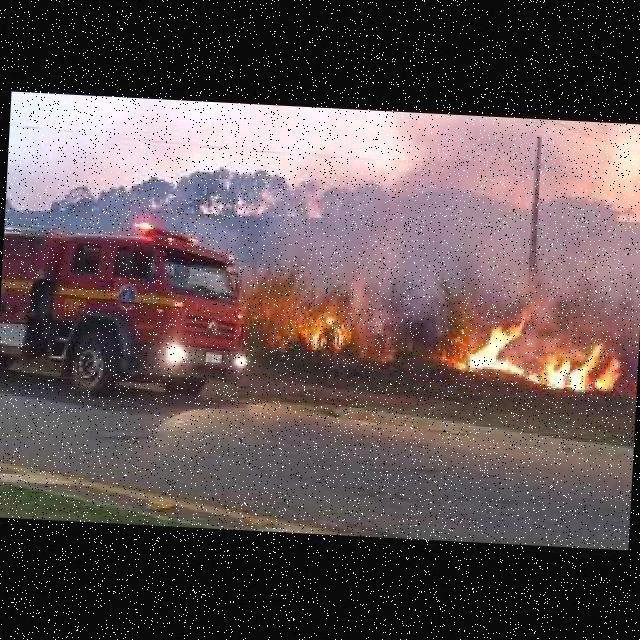Fire: (529, 333, 622, 390), (460, 312, 531, 373), (313, 318, 347, 350)
Smoke: (268, 107, 620, 246)
